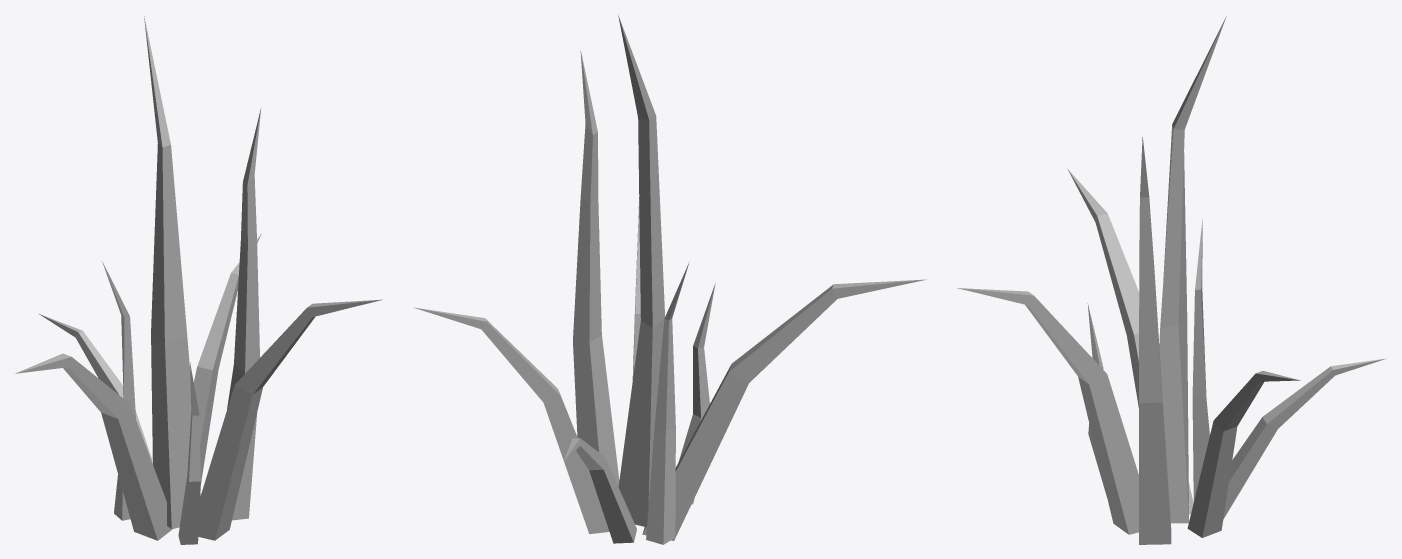
The model's file is Grass_11.fbx.
3 views of the same model, side by side, from view 1: azimuth 30°, elevation 25°; view 2: azimuth 150°, elevation 25°; view 3: azimuth 270°, elevation 25° (orthographic). The views are drawn at different scales.
Parts seen in each view (by area): view 1: Grass_11; view 2: Grass_11; view 3: Grass_11.
Boxes of the visible parts, box(x1,y1,x2,y2) form: Grass_11: box(14, 16, 382, 544); Grass_11: box(413, 15, 927, 544); Grass_11: box(957, 16, 1387, 544).
Bounding box in the file's own units: 1.43 × 1.87 × 1.44.
